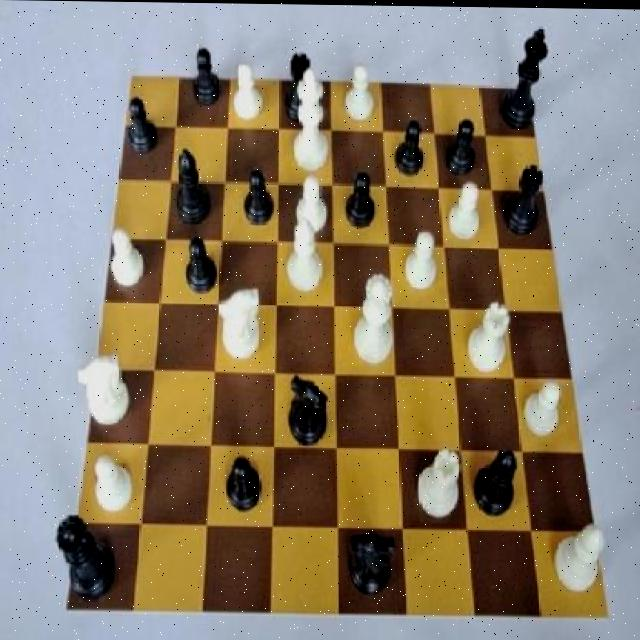bishop: (468, 441, 524, 526), (168, 137, 212, 233)
black-bishop: (492, 16, 560, 136)
black-king: (278, 365, 335, 452), (343, 521, 399, 606)
black-knight: (219, 441, 266, 524), (120, 83, 164, 164), (182, 36, 226, 116), (179, 225, 222, 305), (233, 163, 279, 236), (442, 111, 485, 183), (340, 159, 378, 237), (388, 111, 429, 180)
black-pawn: (52, 502, 118, 615)
black-queen: (494, 154, 550, 240), (276, 42, 320, 133)
black-rook: (545, 511, 614, 601), (279, 210, 328, 299)
white-bishop: (285, 52, 332, 174)
white-king: (74, 341, 135, 439), (212, 273, 271, 371)
white-knight: (98, 212, 152, 295), (90, 440, 138, 521), (520, 366, 566, 442), (445, 176, 486, 252), (399, 220, 440, 296), (338, 56, 382, 125), (288, 170, 332, 239), (225, 55, 268, 125)
white-pawn: (350, 267, 398, 376)
white-queen: (412, 436, 468, 529), (464, 290, 520, 382)
